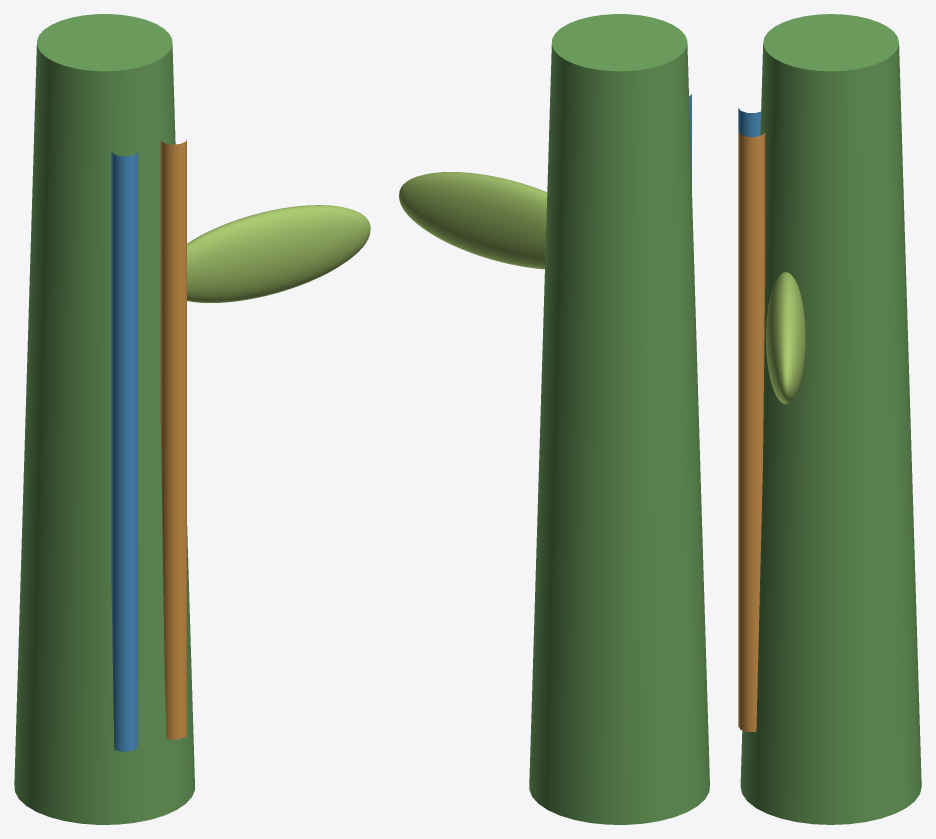
Rendered from bio-p1-stem.glb.
3 renders of one model, left to right at view 1: azimuth 30°, elevation 25°; view 2: azimuth 150°, elevation 25°; view 3: azimuth 270°, elevation 25°, orthographic.
Visible parts, largest first — view 1: supporting-stem-column, xylem-up-channel-inside-stem, phloem-down-channel-inside-stem, attached-leaf-node; view 2: supporting-stem-column, attached-leaf-node; view 3: supporting-stem-column, phloem-down-channel-inside-stem, attached-leaf-node, xylem-up-channel-inside-stem.
Part boxes in pixels (x1,y1,x2,y2): supporting-stem-column: [14, 14, 194, 824]; xylem-up-channel-inside-stem: [111, 151, 137, 751]; phloem-down-channel-inside-stem: [160, 139, 186, 739]; attached-leaf-node: [187, 205, 370, 302]; supporting-stem-column: [529, 14, 709, 824]; attached-leaf-node: [399, 172, 547, 269]; supporting-stem-column: [740, 14, 921, 824]; phloem-down-channel-inside-stem: [738, 132, 765, 731]; attached-leaf-node: [766, 272, 805, 403]; xylem-up-channel-inside-stem: [738, 108, 760, 136].
Size of what is drawn, in the model's own units: 0.656 by 1.45 by 0.324.
